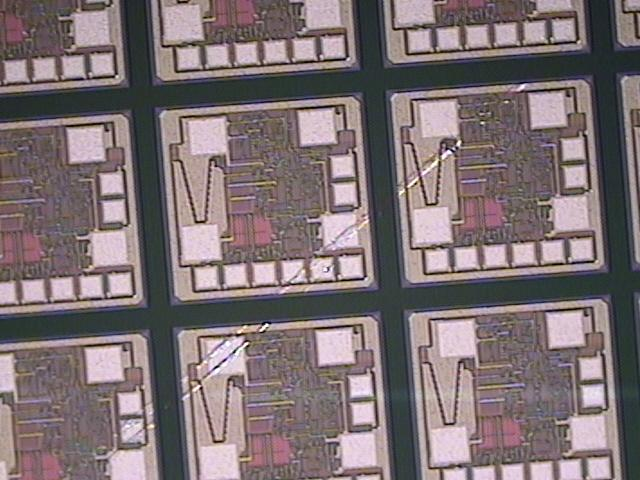SCRATCH: (87, 78, 536, 475)
